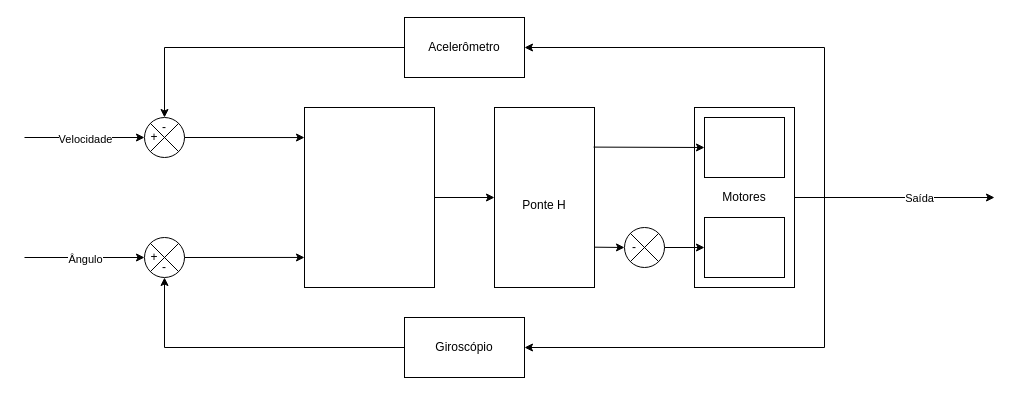
This 1020x395 diagram has some shape labels left out. Here are the shapes that lost their labels. From the top down, the centre of each, then its label:
At (744,147): "Motor 1".
At (369,197): "ESP32 DevKit C1".
At (744,247): "Motor 2".
